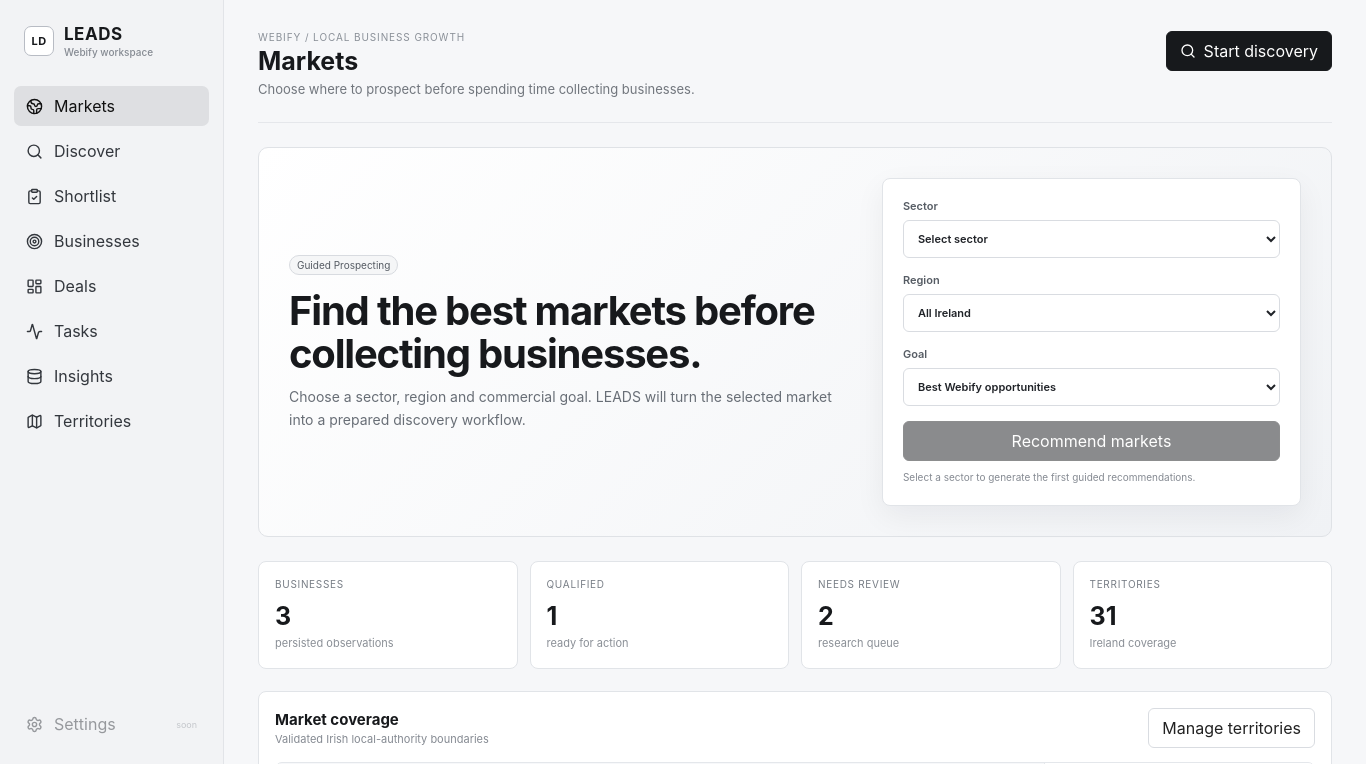
Test: App › carries a recommended market into Discover
The width and height of the screenshot is (1366, 764).
Select "Accountancy" in the dropdown labelled "Sector" at (1091, 239), box [903,220,1280,258]
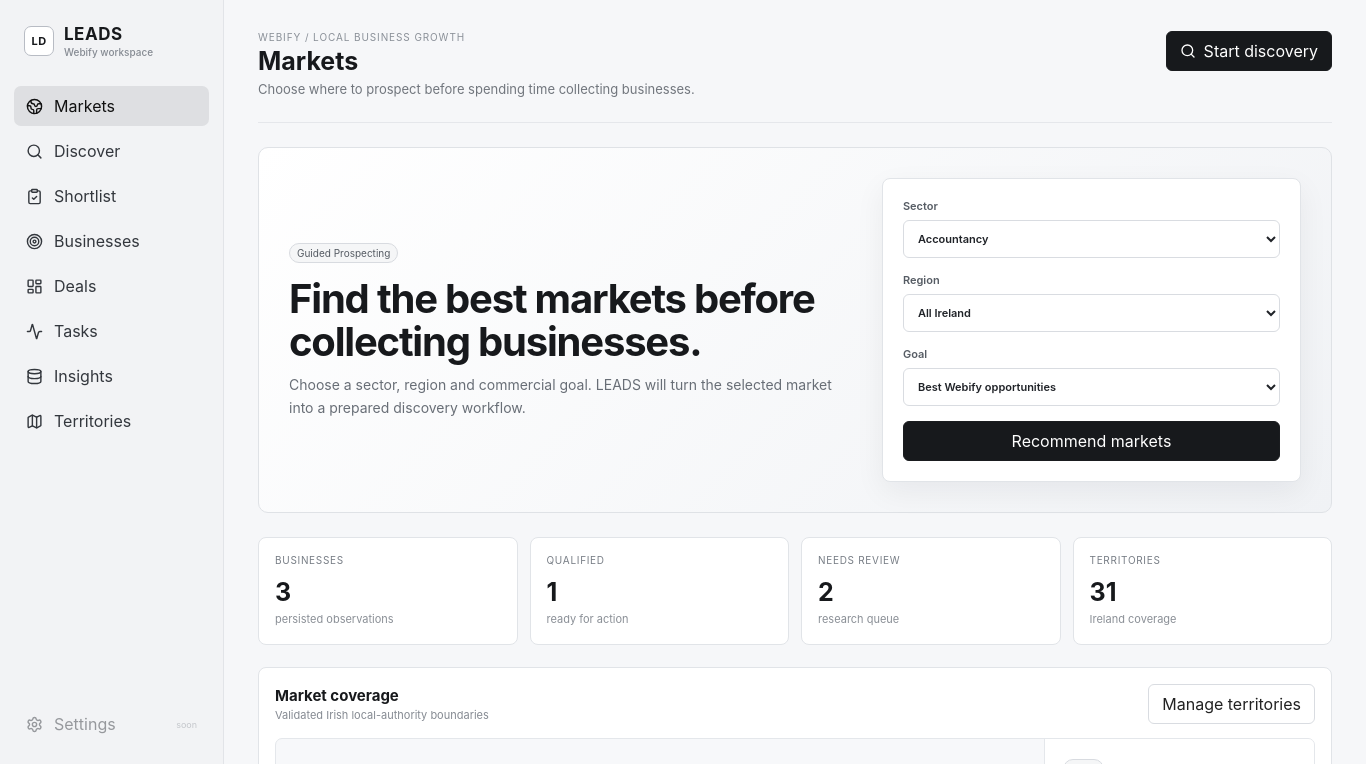
Click the button "Recommend markets" at (1091, 441), box [903,421,1280,461]
(page scrolled)
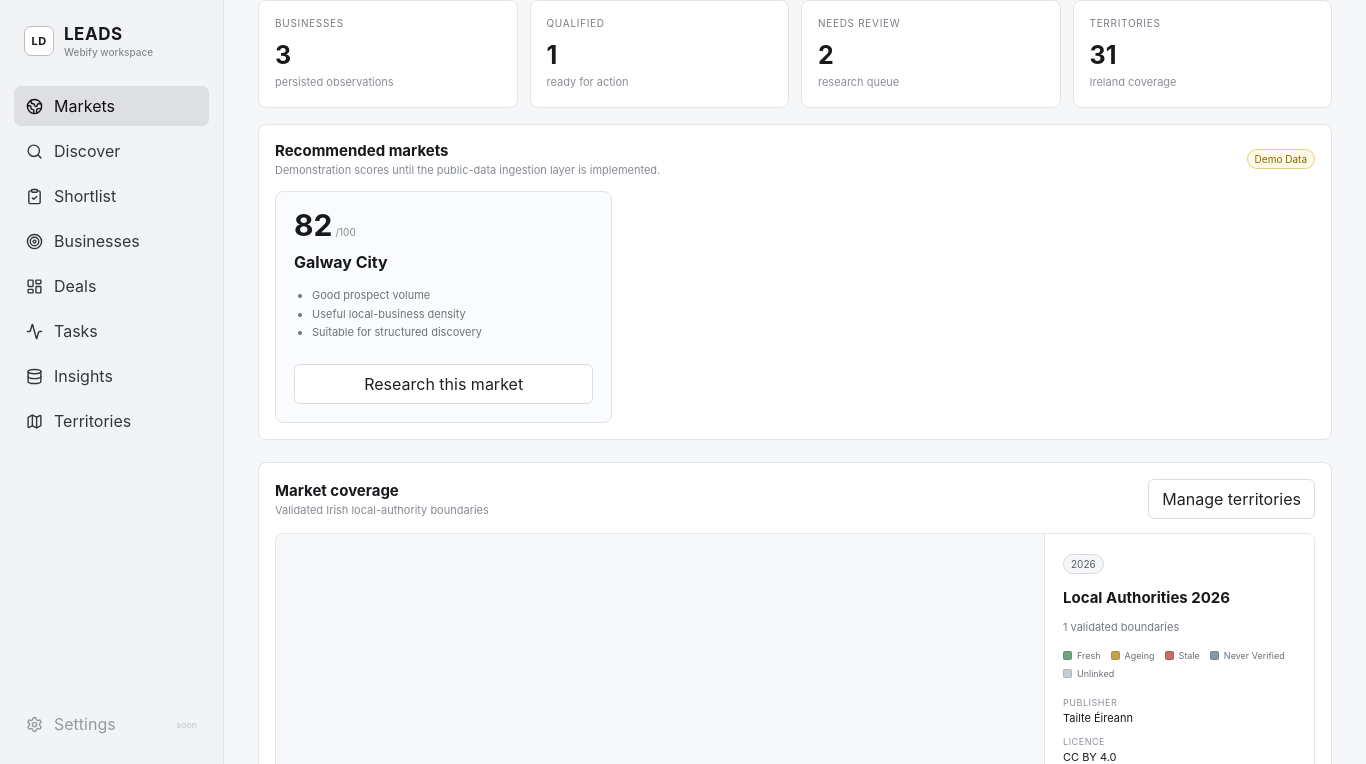
expect the heading "Recommended markets" is shown: met, box [275,141,448,160]
Click the button "Research this market" at (444, 384), box [294,364,593,404]
(page scrolled)
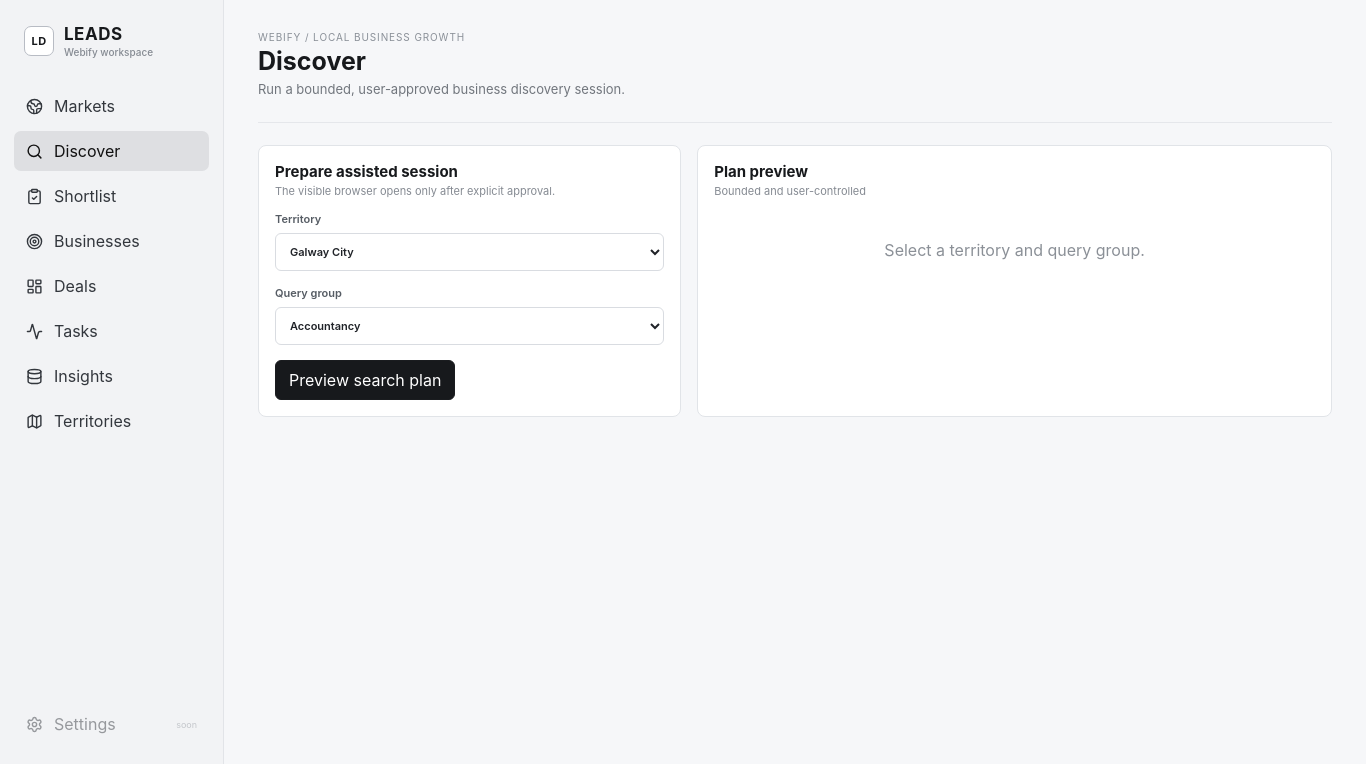
expect the dropdown labelled "Query group" shows "Accountancy": met, box [275,307,664,345]
expect the heading "Discover" is shown: met, box [258,46,366,76]
expect the dropdown labelled "Territory" shows "Galway City": met, box [275,233,664,271]
